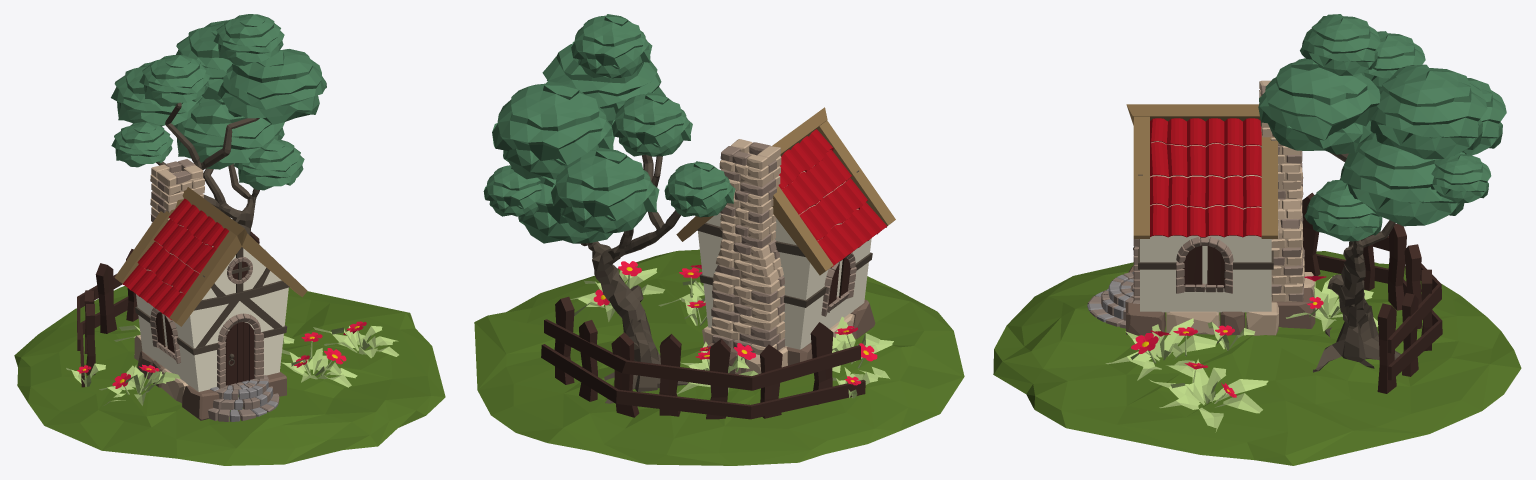
The model's file is lowpoly_house.fbx.
The picture shows the model from 3 angles, left to right: view 1: azimuth 30°, elevation 25°; view 2: azimuth 150°, elevation 25°; view 3: azimuth 270°, elevation 25°; orthographic projection. The views are drawn at different scales.
Visible parts, largest first — view 1: Sphere.001, Wall, Roof, Icosphere.001, roof Frame, Icosphere.006, Door, Icosphere, Icosphere.008, Trunk, House Frame, Icosphere.007 (+16 smaller); view 2: Sphere.001, Chiminy, Icosphere.002, Roof, Icosphere.005, Wall, Trunk, Circle.001, Circle.002, roof Frame, Icosphere.008, Icosphere (+17 smaller); view 3: Sphere.001, Roof, Icosphere.001, Icosphere.002, Wall, Icosphere.006, roof Frame, Chiminy, Trunk, Floor, Icosphere.008, Icosphere.007 (+18 smaller).
Part boxes in pixels (x1,y1,x2,y2): Sphere.001: (14,286,445,465); Wall: (136,224,288,391); Roof: (122,198,228,319); Icosphere.001: (217,49,326,124); roof Frame: (114,187,307,326); Icosphere.006: (174,97,284,169); Door: (217,313,263,388); Icosphere: (139,55,210,106); Icosphere.008: (213,14,284,65); Trunk: (156,102,259,235); House Frame: (135,247,289,355); Icosphere.007: (233,139,304,190); Sphere.001: (474,249,964,465); Chiminy: (711,139,785,354); Icosphere.002: (492,81,614,179); Roof: (778,129,887,267); Icosphere.005: (551,147,659,233); Wall: (698,165,871,349); Trunk: (580,154,688,403); Circle.001: (541,344,865,419); Circle.002: (544,319,860,390); roof Frame: (676,107,895,275); Icosphere.008: (571,14,652,78); Icosphere: (611,92,692,156); Sphere.001: (993,251,1521,465); Roof: (1150,118,1261,237); Icosphere.001: (1258,58,1380,154); Icosphere.002: (1370,64,1487,159); Wall: (1140,141,1271,312); Icosphere.006: (1339,133,1464,226); roof Frame: (1126,104,1277,238); Chiminy: (1259,80,1304,301); Trunk: (1313,152,1400,372); Floor: (1126,265,1315,335); Icosphere.008: (1300,14,1380,75); Icosphere.007: (1304,180,1382,241).
Size of the model in its own units: 1844 by 1451 by 1863.
